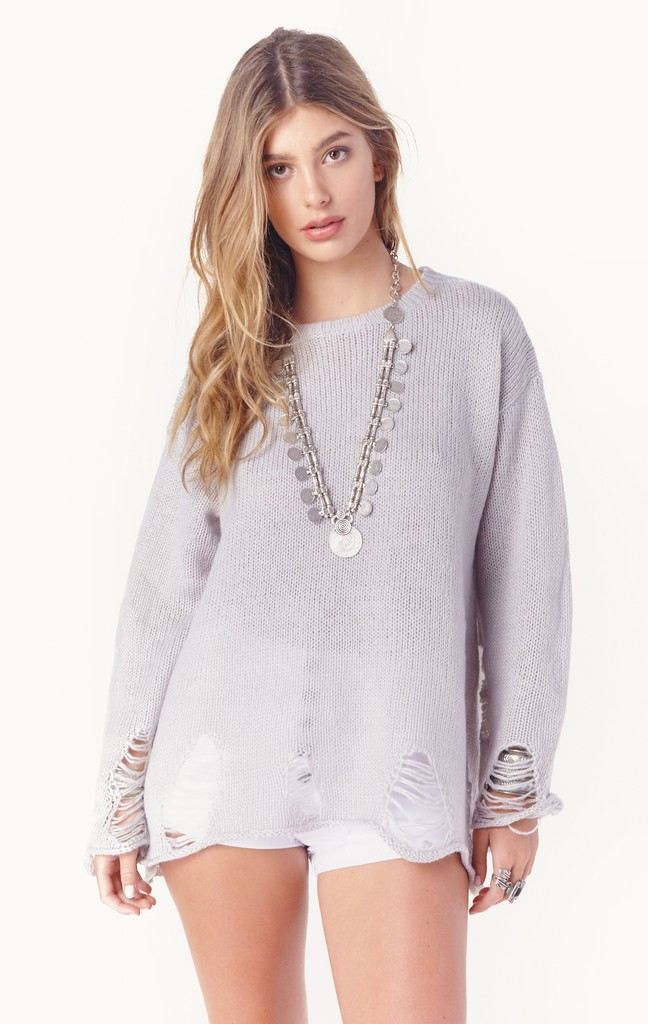Person: (84, 26, 573, 1023)
